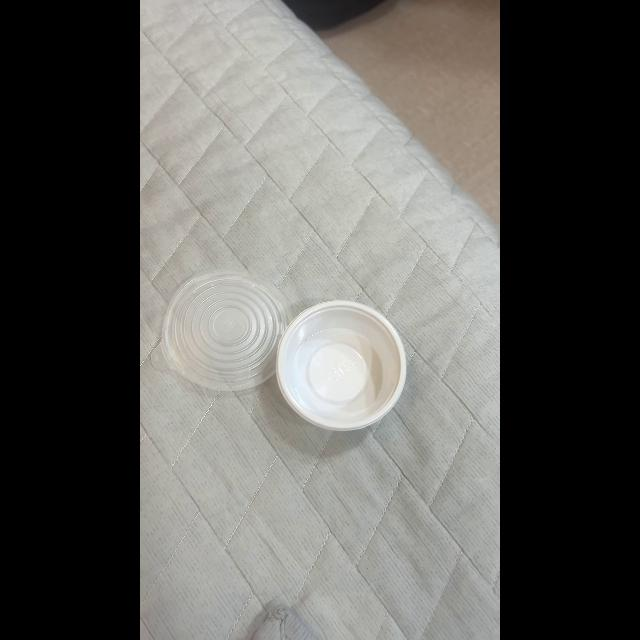clean: (275, 302, 405, 428), (162, 272, 290, 390)
